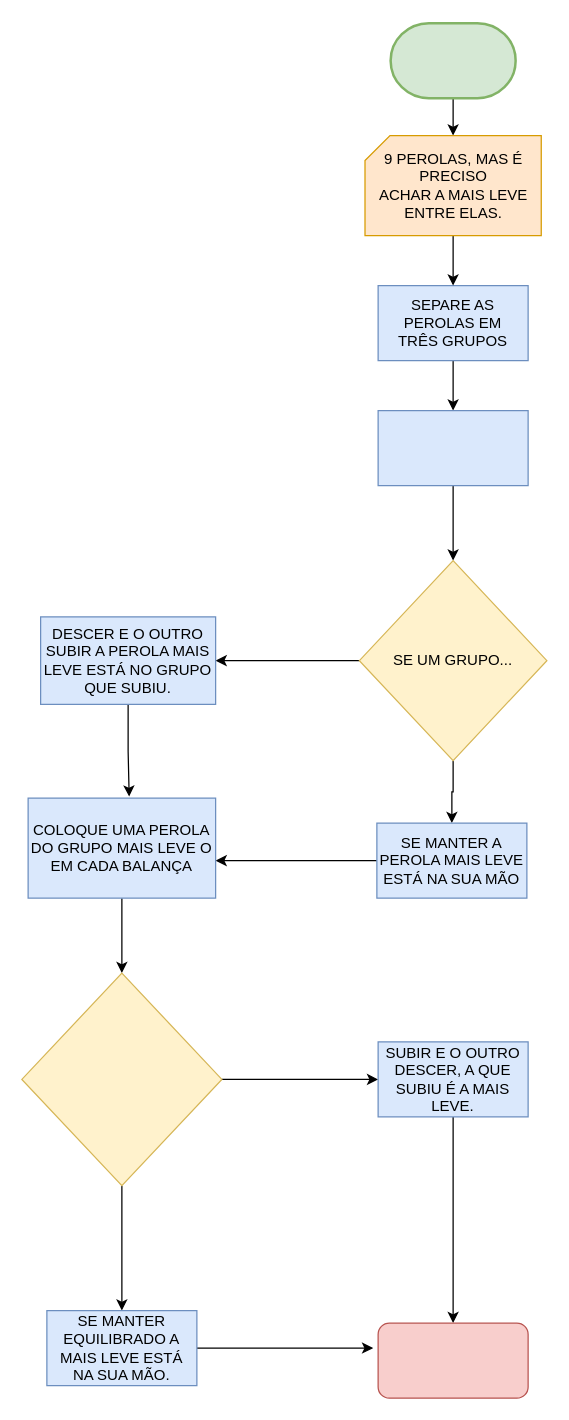
Some shapes in this 569 by 1420 pixel diagram are drawn without their labels. The shapes that lost their labels are listed below. From the top down, each one's centre as x and y in pixels, then its label:
pixel 452 60: INICIO
pixel 452 447: PONHA UM GRUPO EM CADA LADO DA BALNÇA
pixel 121 1079: SE AS PEROLAS...
pixel 452 1360: FIM
